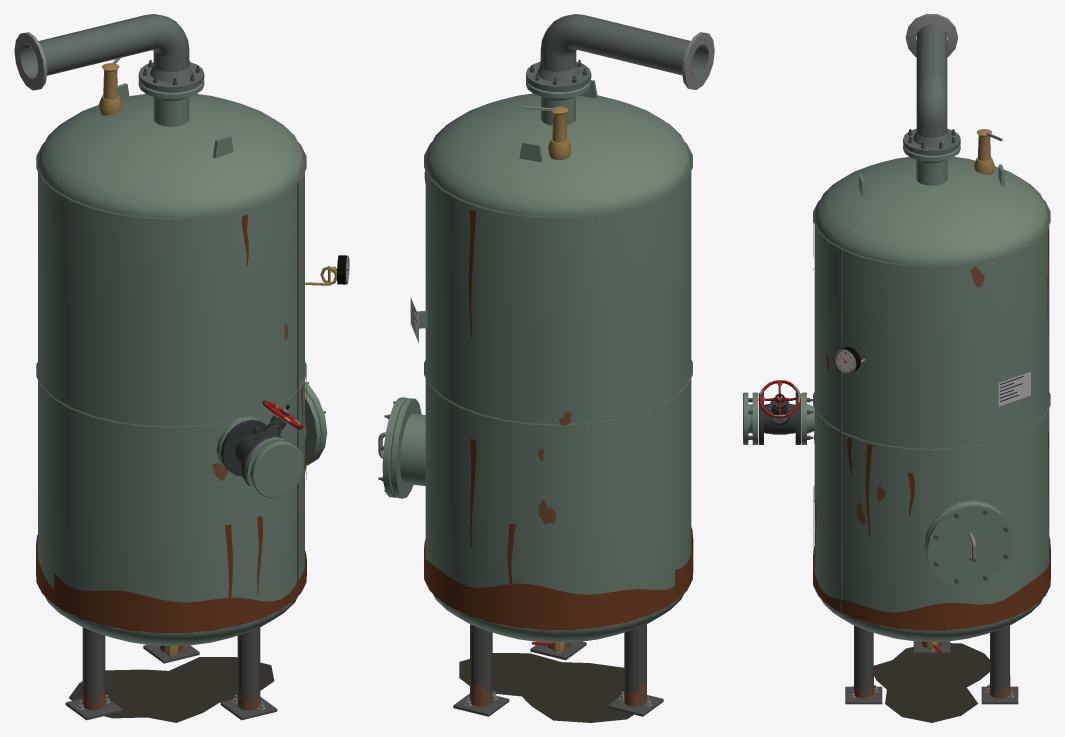
Rendered from mach_tank.glb.
The picture shows the model from 3 angles, left to right: view 1: azimuth 30°, elevation 25°; view 2: azimuth 150°, elevation 25°; view 3: azimuth 270°, elevation 25°; orthographic projection. The views are drawn at different scales.
Visible parts, largest first — view 1: kessel0, kessel16, kessel5, kessel17, kessel2, kessel1, kessel8, kessel7, kessel6, kessel4; view 2: kessel0, kessel16, kessel5, kessel17, kessel2, kessel1, kessel4, kessel7, kessel6; view 3: kessel0, kessel17, kessel16, kessel5, kessel2, kessel1, kessel8, kessel6, kessel4, kessel7, kessel15, kessel3 (+1 smaller).
Part boxes in pixels (<box>): kessel0: <box>38,80,327,645</box>; kessel16: <box>36,214,306,632</box>; kessel5: <box>20,14,204,92</box>; kessel17: <box>69,657,274,722</box>; kessel2: <box>65,60,325,720</box>; kessel1: <box>36,142,306,633</box>; kessel8: <box>220,415,288,486</box>; kessel7: <box>98,63,337,655</box>; kessel6: <box>14,32,47,90</box>; kessel4: <box>82,323,305,710</box>; kessel0: <box>382,79,691,642</box>; kessel16: <box>424,209,693,629</box>; kessel5: <box>526,14,708,91</box>; kessel17: <box>459,653,633,722</box>; kessel2: <box>378,59,663,716</box>; kessel1: <box>424,141,692,630</box>; kessel4: <box>424,170,646,706</box>; kessel7: <box>548,106,571,652</box>; kessel6: <box>682,32,714,89</box>; kessel0: <box>743,144,1049,641</box>; kessel17: <box>873,643,989,722</box>; kessel16: <box>813,225,1050,630</box>; kessel5: <box>903,25,960,155</box>; kessel2: <box>748,129,1018,704</box>; kessel1: <box>813,199,1050,630</box>; kessel8: <box>759,392,800,444</box>; kessel6: <box>905,14,957,57</box>; kessel4: <box>760,266,1010,698</box>; kessel7: <box>861,129,994,650</box>; kessel15: <box>998,372,1030,406</box>; kessel3: <box>759,132,1030,697</box>.
Bounding box in the file's own units: 1.16 × 2.55 × 1.17.
